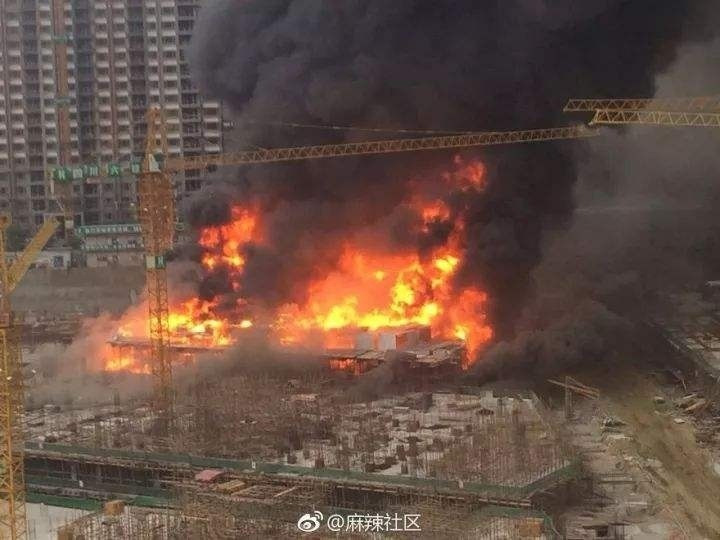fire: (93, 203, 516, 357)
